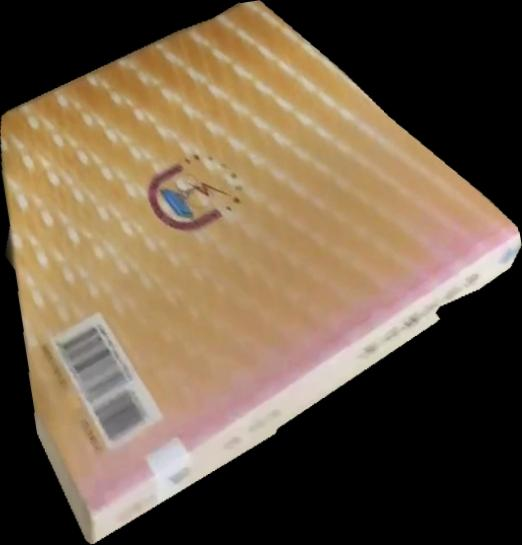flat: (1, 1, 522, 545)
